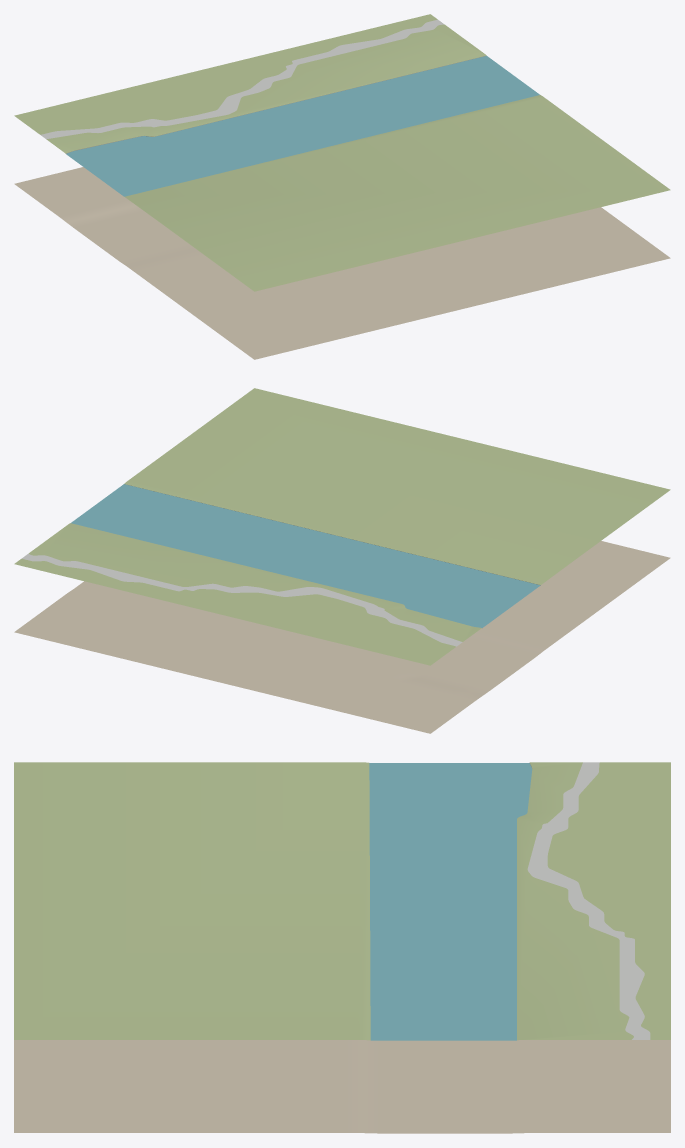
3 views of the same model, one above another, from view 1: azimuth 30°, elevation 25°; view 2: azimuth 150°, elevation 25°; view 3: azimuth 270°, elevation 25° (orthographic). The views are drawn at different scales.
Visible parts, largest first — view 1: s_-11_6__grass, s_-11_6__soil, s_-11_6__water, s_-11_6__stone_paving; view 2: s_-11_6__grass, s_-11_6__soil, s_-11_6__water, s_-11_6__stone_paving; view 3: s_-11_6__grass, s_-11_6__soil, s_-11_6__water, s_-11_6__stone_paving.
Boxes of the visible parts, x1,y1,x2,y2 form: s_-11_6__grass: [14, 14, 670, 291]; s_-11_6__soil: [14, 167, 670, 359]; s_-11_6__water: [66, 56, 539, 196]; s_-11_6__stone_paving: [40, 19, 444, 139]; s_-11_6__grass: [14, 388, 670, 665]; s_-11_6__soil: [14, 541, 670, 733]; s_-11_6__water: [71, 484, 540, 627]; s_-11_6__stone_paving: [22, 553, 462, 646]; s_-11_6__grass: [14, 762, 670, 1040]; s_-11_6__soil: [14, 1040, 670, 1133]; s_-11_6__water: [369, 763, 532, 1040]; s_-11_6__stone_paving: [527, 762, 650, 1039].
Bounding box in the file's own units: 128 × 20.14 × 128.
